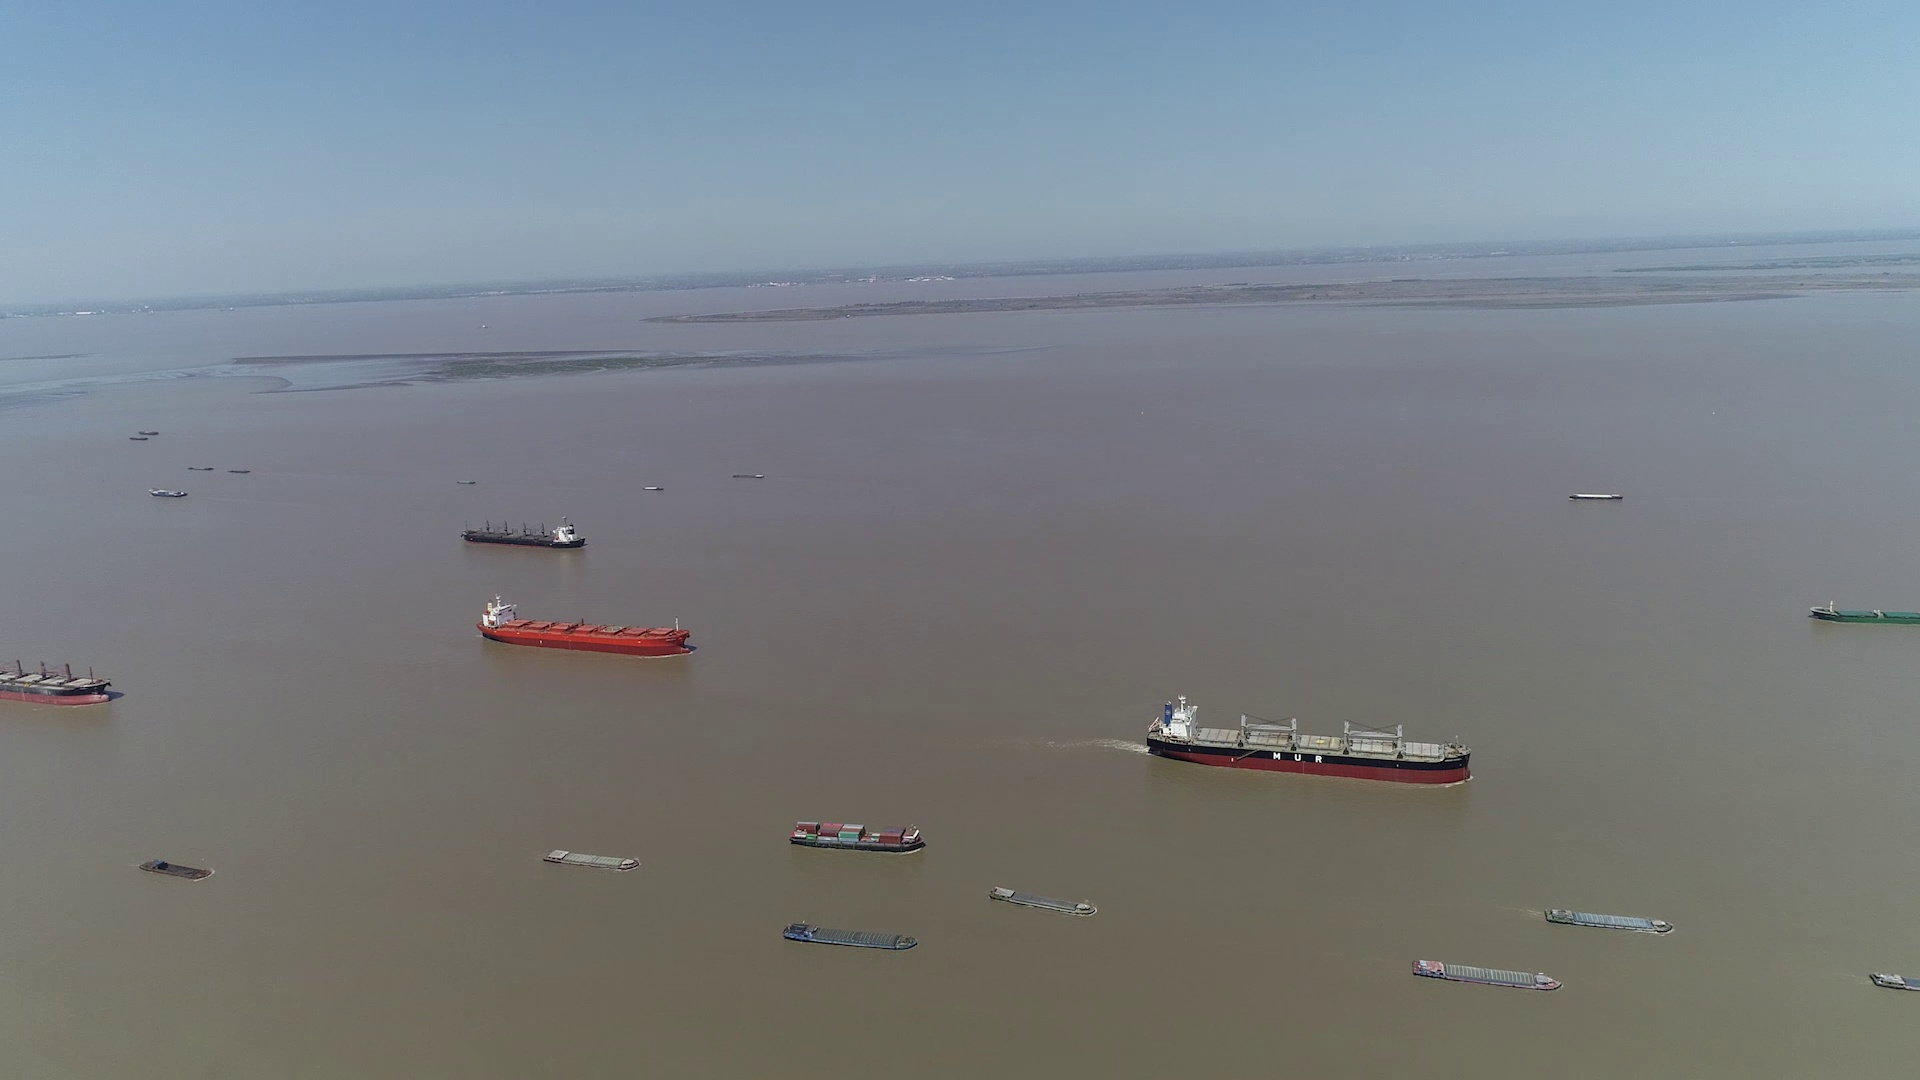ship: (1149, 695, 1472, 783), (483, 597, 690, 657), (0, 642, 117, 707), (1414, 957, 1559, 992), (791, 822, 927, 855), (778, 922, 918, 952), (464, 516, 585, 549), (988, 885, 1096, 916), (1543, 907, 1672, 934), (1809, 600, 1919, 625), (542, 847, 641, 872), (138, 858, 214, 880), (1866, 969, 1917, 993), (152, 487, 189, 498), (1569, 492, 1619, 500)
